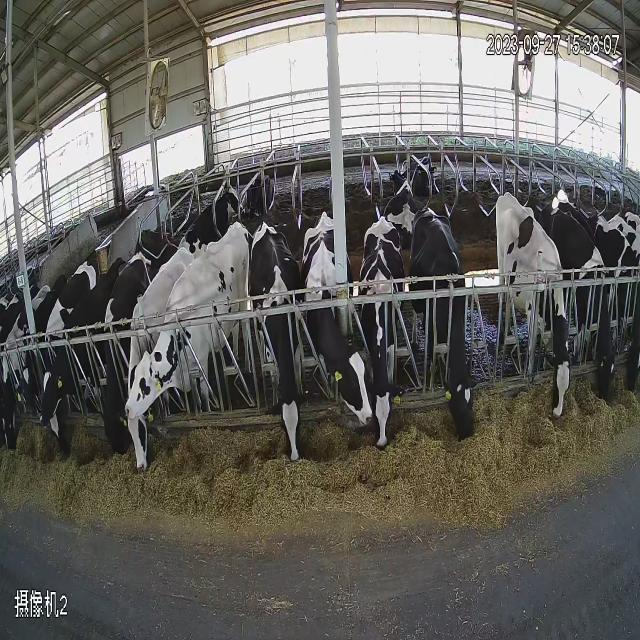feeding: (422, 148, 518, 578), (489, 182, 595, 474), (362, 175, 445, 532), (302, 188, 378, 510), (249, 183, 317, 532), (536, 185, 628, 432), (123, 240, 200, 516), (36, 248, 92, 482), (2, 267, 34, 491)
lying down: (196, 106, 453, 239)
standing: (125, 222, 252, 424)
